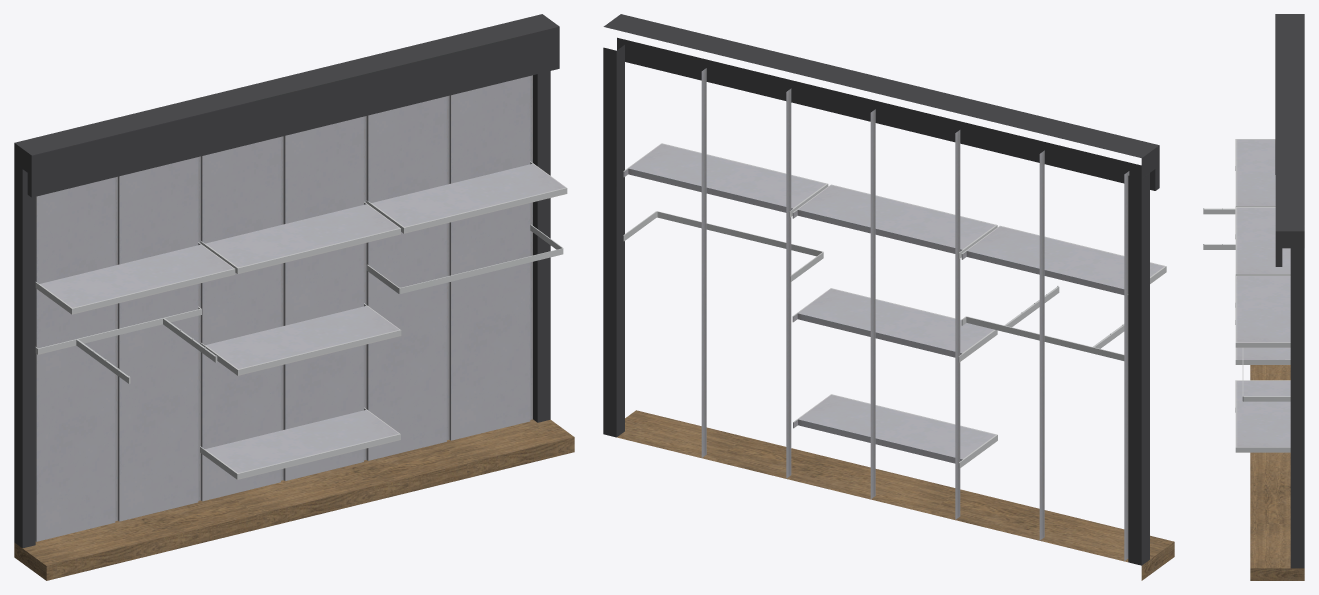
The model's file is SM_Rack_05.glb.
3 renders of one model, left to right at view 1: azimuth 30°, elevation 25°; view 2: azimuth 150°, elevation 25°; view 3: azimuth 270°, elevation 25°, orthographic. The views are drawn at different scales.
Visible parts, largest first — view 1: SM_Rack_05; view 2: SM_Rack_05; view 3: SM_Rack_05.
Boxes of the visible parts, box(x1,y1,x2,y2) form: SM_Rack_05: box(14, 14, 574, 580); SM_Rack_05: box(603, 14, 1174, 580); SM_Rack_05: box(1203, 14, 1304, 580).
Size of the model in its own units: 3.79 by 2.84 by 0.7487.
Materials: 1 (1 with a texture image).
